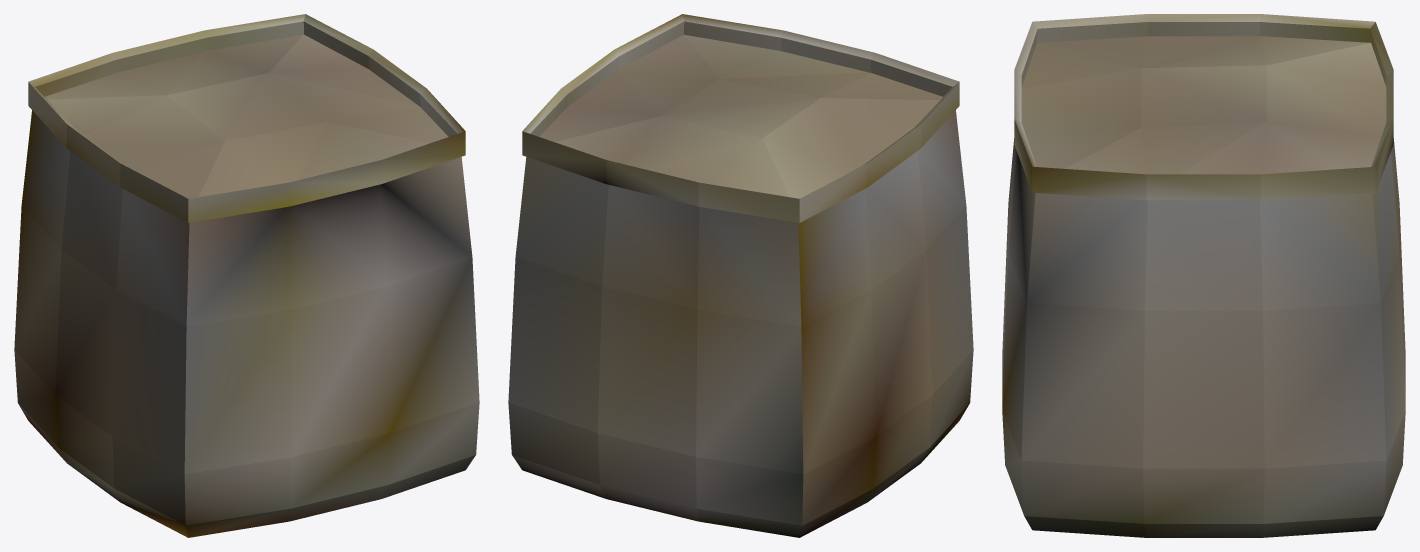
The model's file is barrier_hesco.glb.
3 views of the same model, side by side, from view 1: azimuth 30°, elevation 25°; view 2: azimuth 150°, elevation 25°; view 3: azimuth 270°, elevation 25° (orthographic). The views are drawn at different scales.
Parts seen in each view (by area): view 1: hesco_sand.001; view 2: hesco_sand.001; view 3: hesco_sand.001.
Boxes of the visible parts, x1,y1,x2,y2 form: hesco_sand.001: (14,14,479,537); hesco_sand.001: (508,14,973,537); hesco_sand.001: (1002,14,1405,537).
Size of the model in its own units: 1.1 by 1.1 by 1.1.
